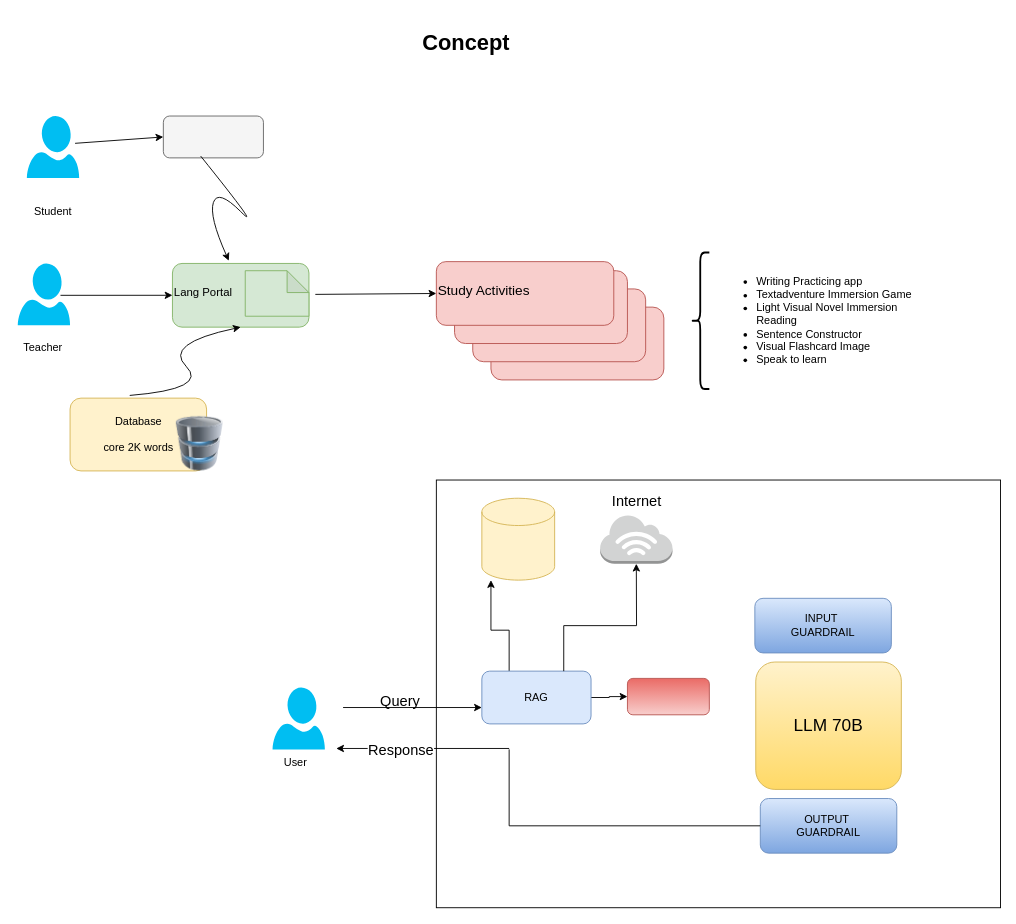
Image size: 1016x924. Some labels were removed from this diagram. The centre of each missing label's shape, as x and y in pixels:
Payment gateway: point 212,136
Prompt cache: point 668,696
Vector Database: point 518,538
Word group: point 276,293
